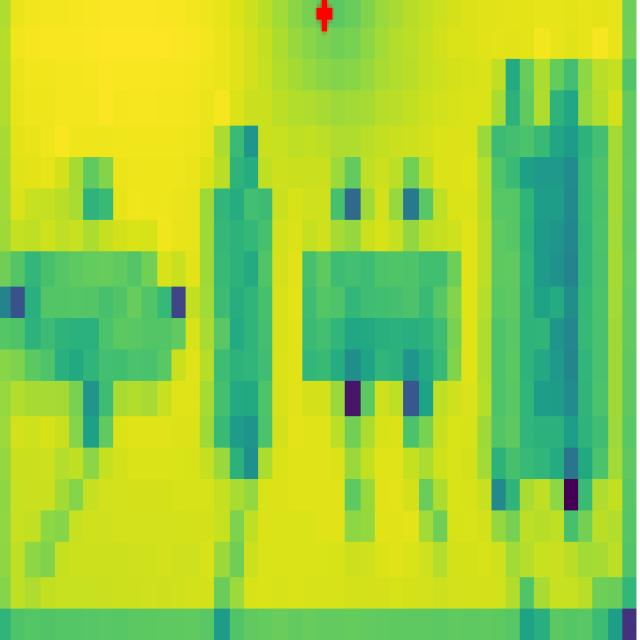Concrete: (300, 249, 463, 383)
Glass: (202, 187, 273, 451)
Metal: (479, 124, 610, 482)
Wood: (23, 247, 170, 382)
